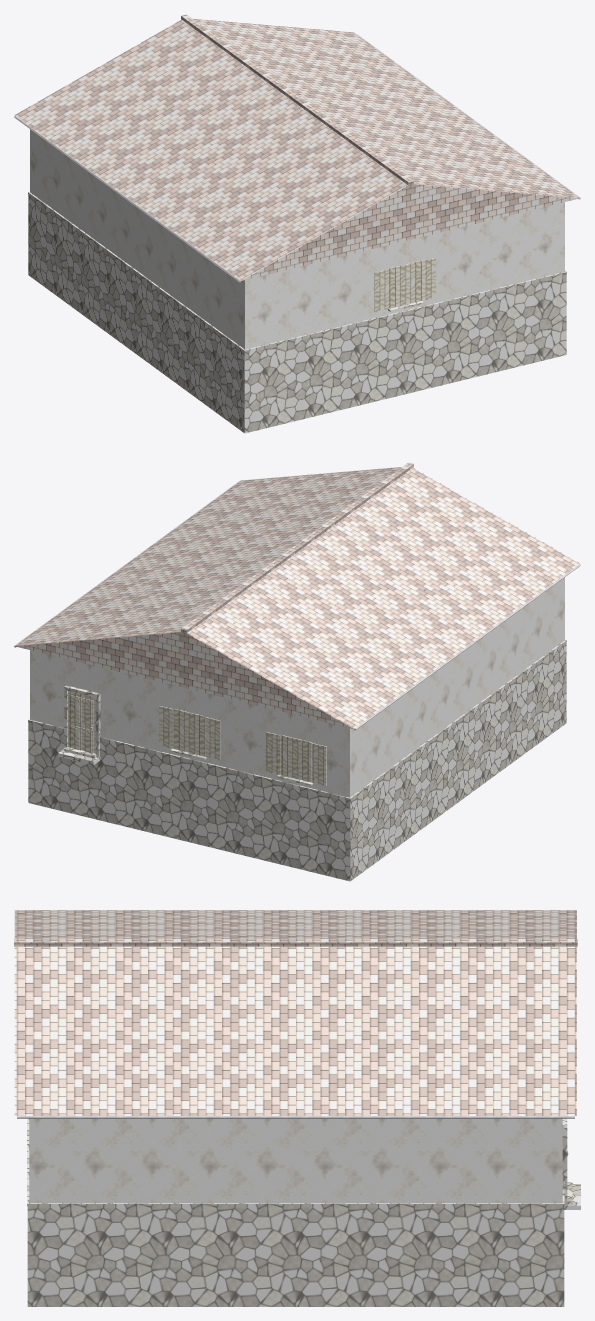
The picture shows the model from 3 angles, top to bottom: view 1: azimuth 30°, elevation 25°; view 2: azimuth 150°, elevation 25°; view 3: azimuth 270°, elevation 25°; orthographic projection. The views are drawn at different scales.
Visible parts, largest first — view 1: b615242519; view 2: b615242519; view 3: b615242519.
Part boxes in pixels (<box>): b615242519: <box>14,14,580,433</box>; b615242519: <box>14,462,580,881</box>; b615242519: <box>14,910,580,1306</box>.
Bounding box in the file's own units: 11.94 × 7.23 × 13.82.
14 materials, 14 textured.
